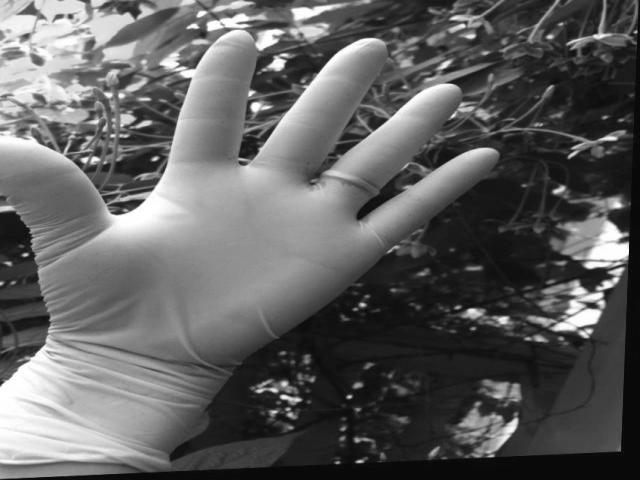gloved: (0, 28, 501, 376)
